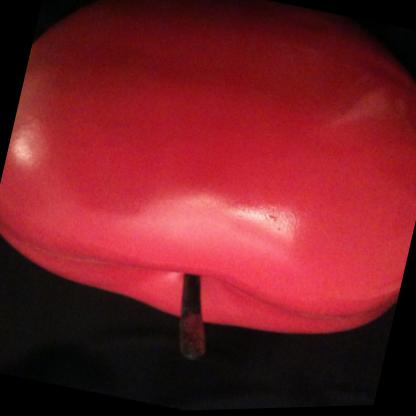apple: (0, 0, 416, 401)
